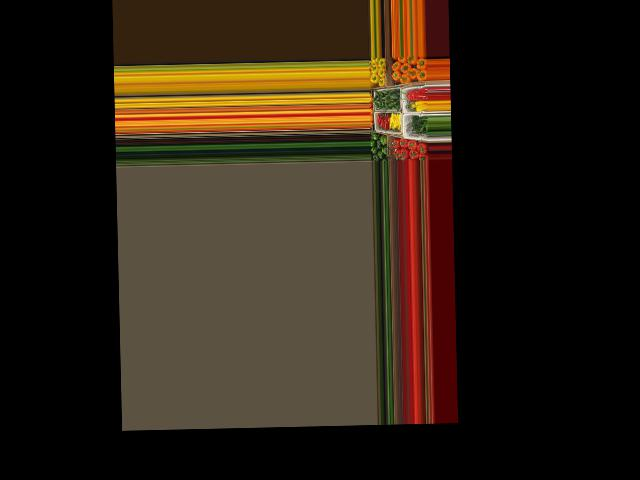bell_pepper: (378, 145, 389, 155)
